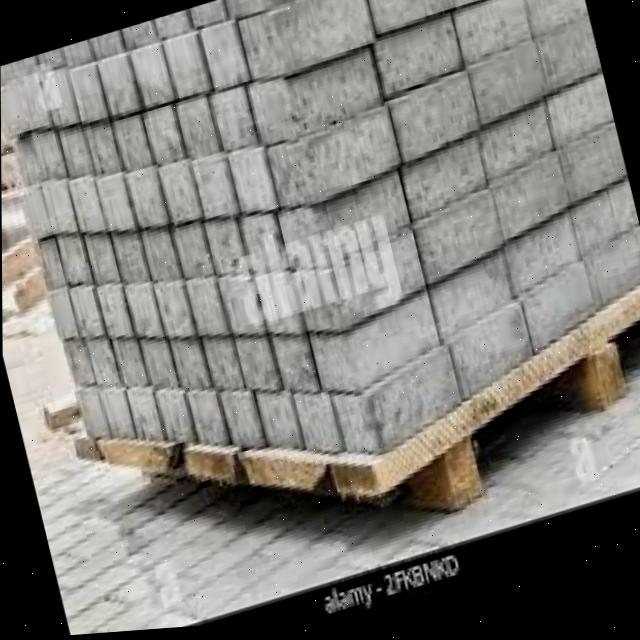bricks: (0, 0, 640, 449)
